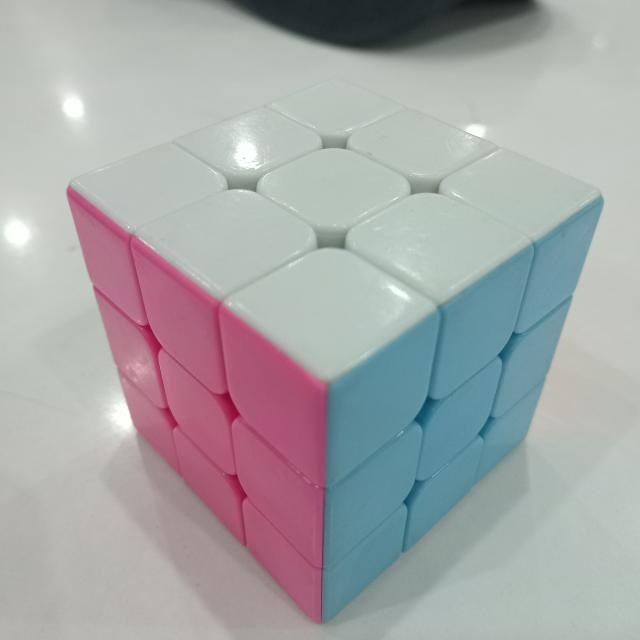back: (322, 198, 604, 624)
right: (67, 187, 325, 624)
rubik: (60, 75, 610, 634)
up: (69, 79, 601, 382)
